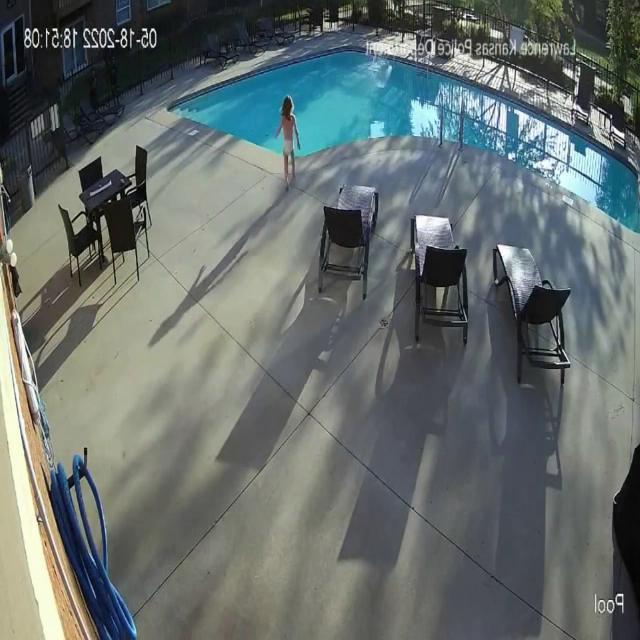child: (274, 91, 300, 192)
